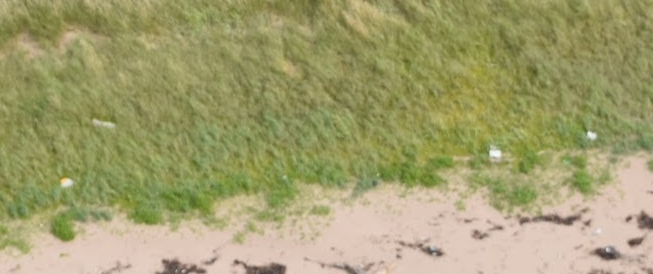white_in_green: (71, 92, 132, 144), (37, 155, 98, 207), (465, 126, 526, 178), (562, 110, 623, 162)
